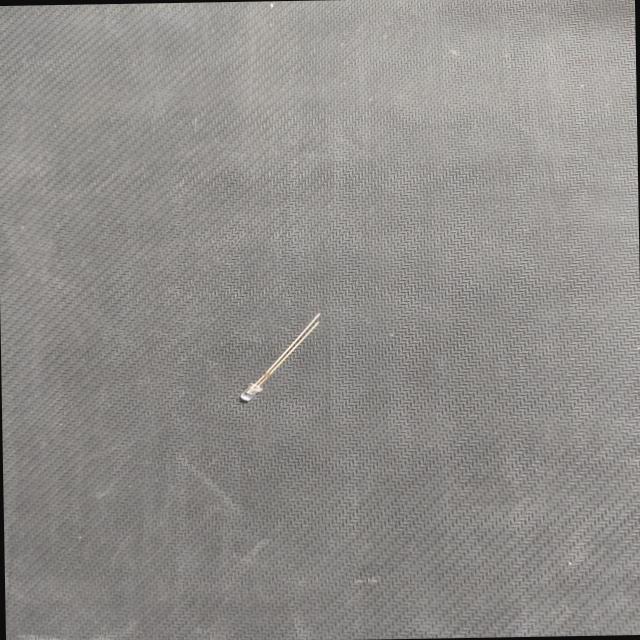led: (229, 310, 327, 408)
